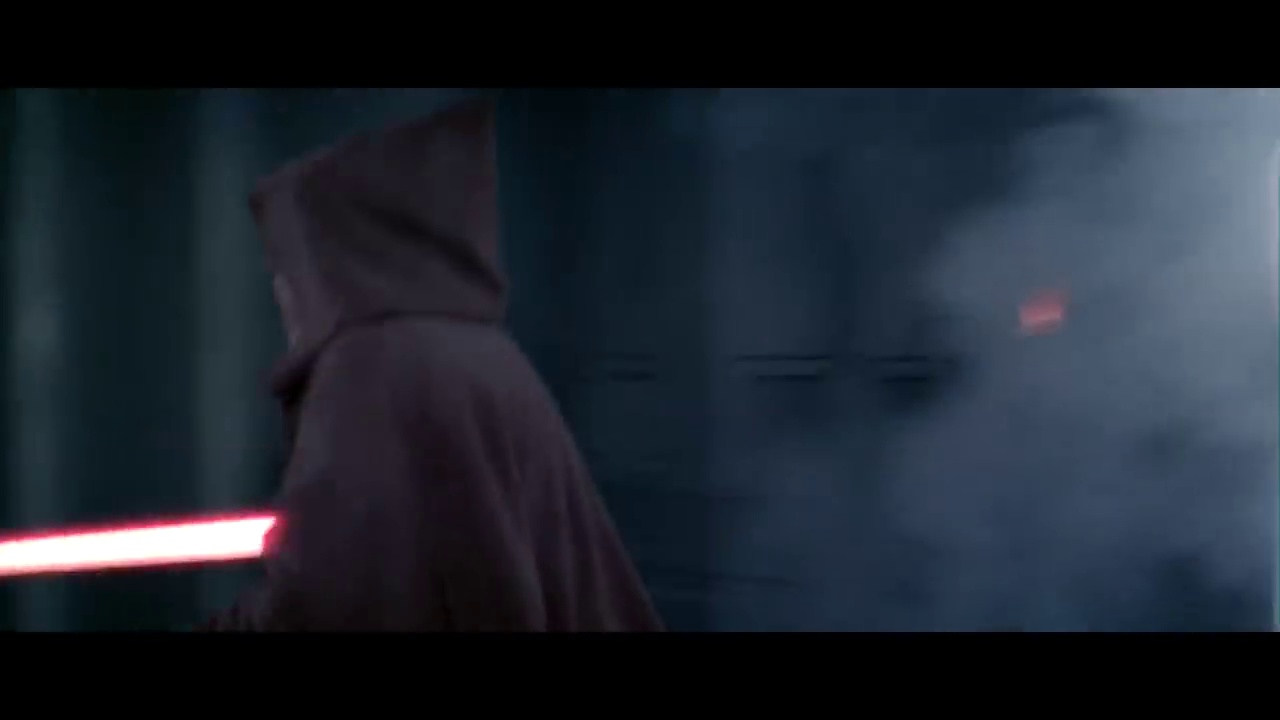lightsaber: (1, 476, 277, 591)
